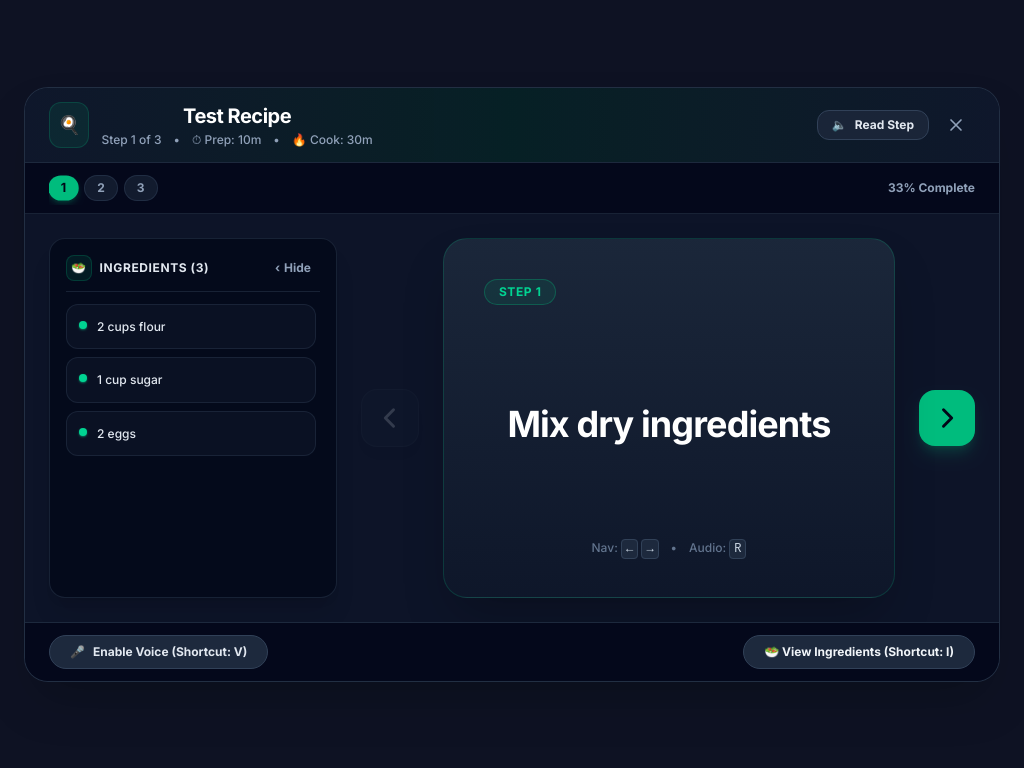
CookingMode › should disable next button on last step
The image size is (1024, 768).
# Go to last step
What coordinates should you click on to do the following:
click the button titled "Next step"
I would click on:
 (947, 418)
Its box is [919,390,975,446].
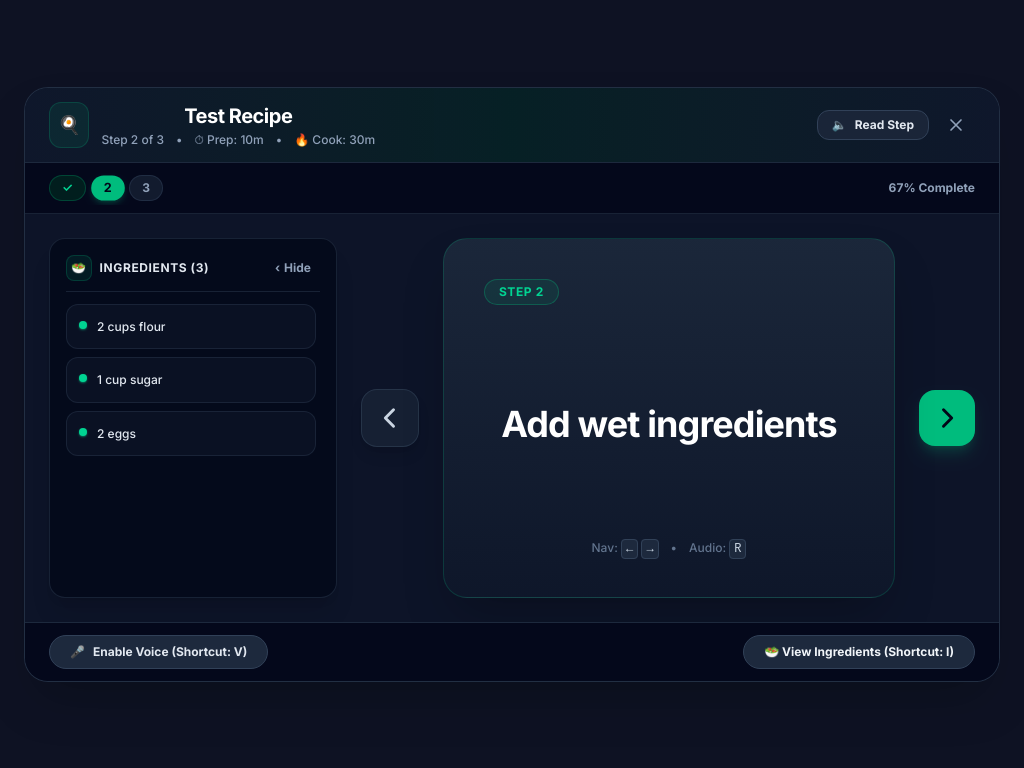
What coordinates should you click on to do the following:
click the button titled "Next step"
I would click on:
 (947, 418)
Its box is [919,390,975,446].
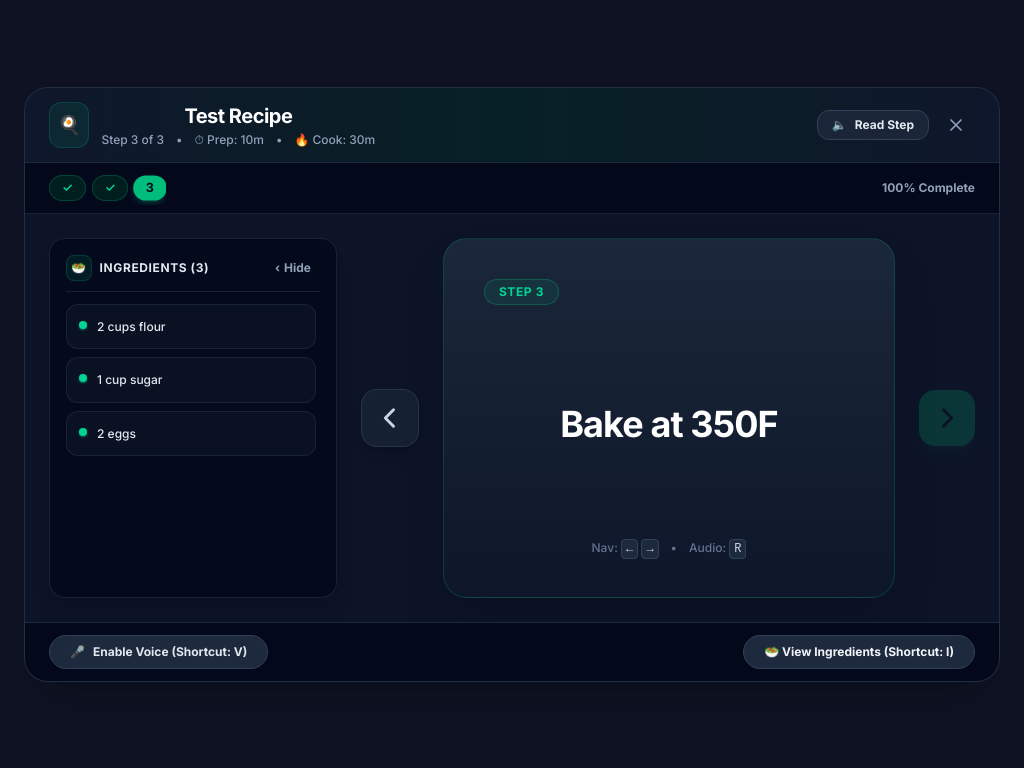
Now the text "Step 3 of 3" is shown, box [102,132,164,148]
Now the button titled "You've completed the recipe!" is disabled, box [919,390,975,446]
